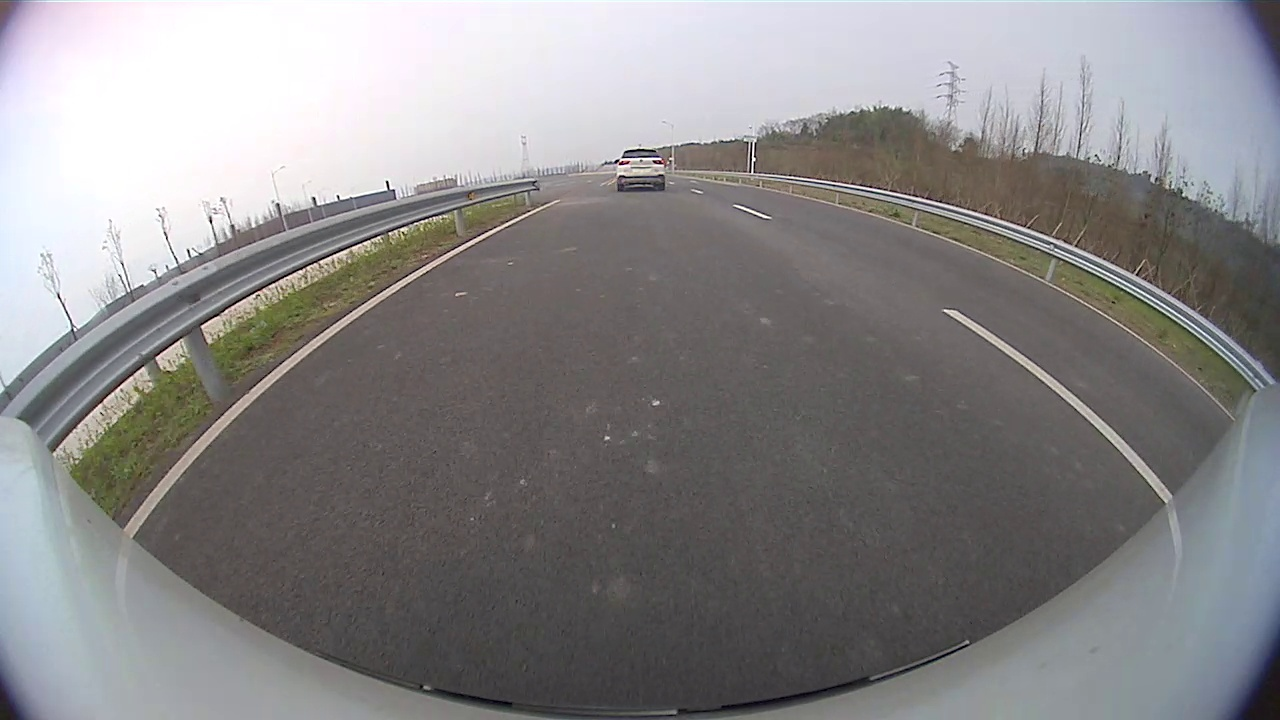car: (614, 148, 665, 191)
